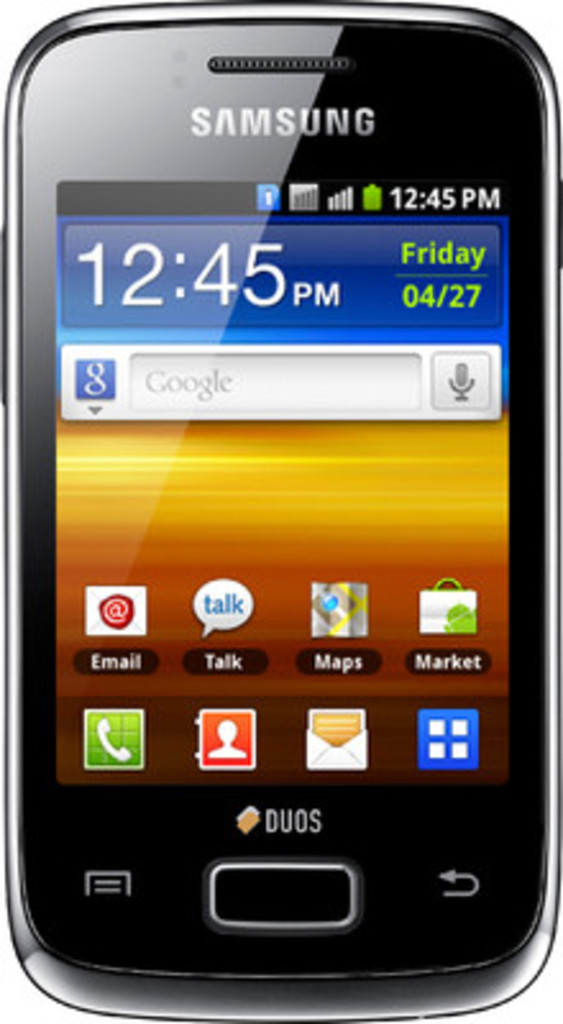mobile phone: (0, 0, 539, 960)
